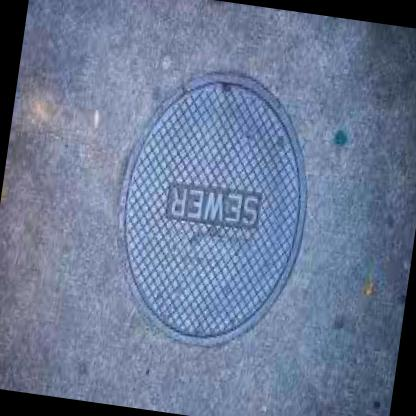manholes: (47, 28, 344, 382)
